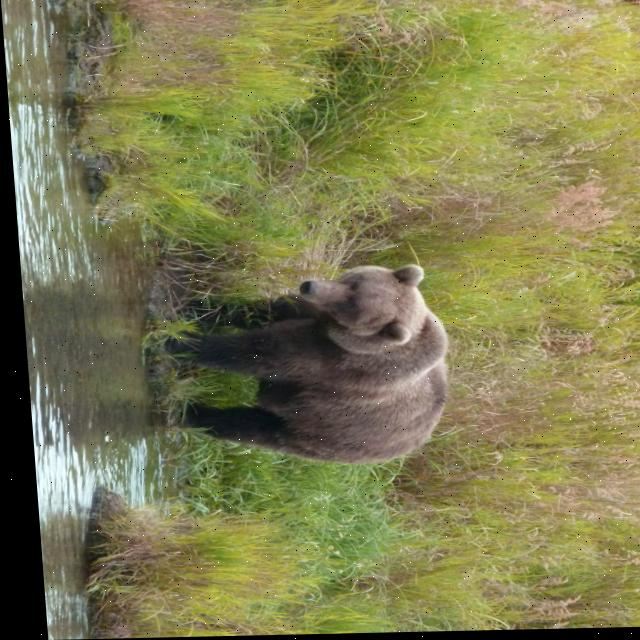bear face: (166, 266, 449, 468)
